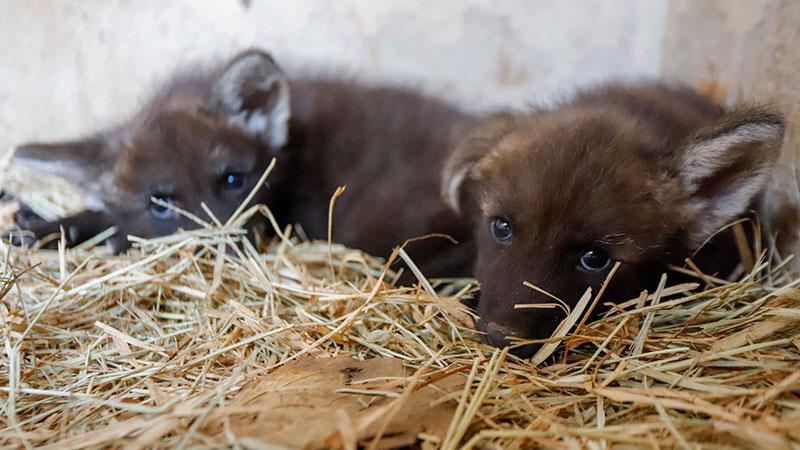LoboGuara: (442, 70, 787, 352), (53, 55, 429, 255)
